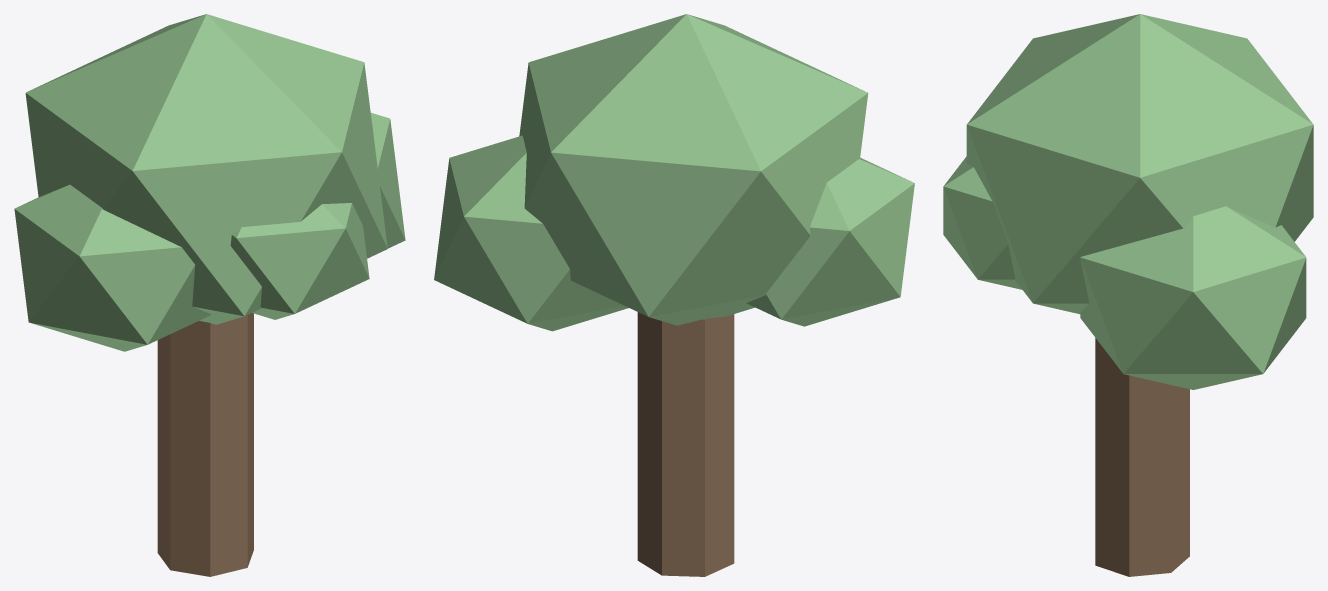
The model's file is tree_round.glb.
3 views of the same model, side by side, from view 1: azimuth 30°, elevation 25°; view 2: azimuth 150°, elevation 25°; view 3: azimuth 270°, elevation 25° (orthographic).
Visible parts, largest first — view 1: TreeRound; view 2: TreeRound; view 3: TreeRound.
Part boxes in pixels (x1=…): TreeRound: x1=14, y1=14, x2=405, y2=576; TreeRound: x1=434, y1=14, x2=914, y2=576; TreeRound: x1=943, y1=14, x2=1313, y2=576.
Bounding box in the file's own units: 2.65 × 3.38 × 2.09.
